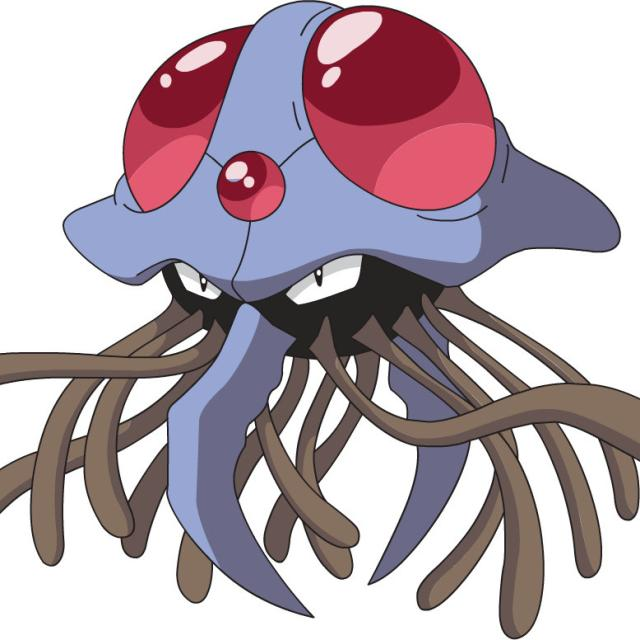Tentacruel: (104, 0, 557, 542)
